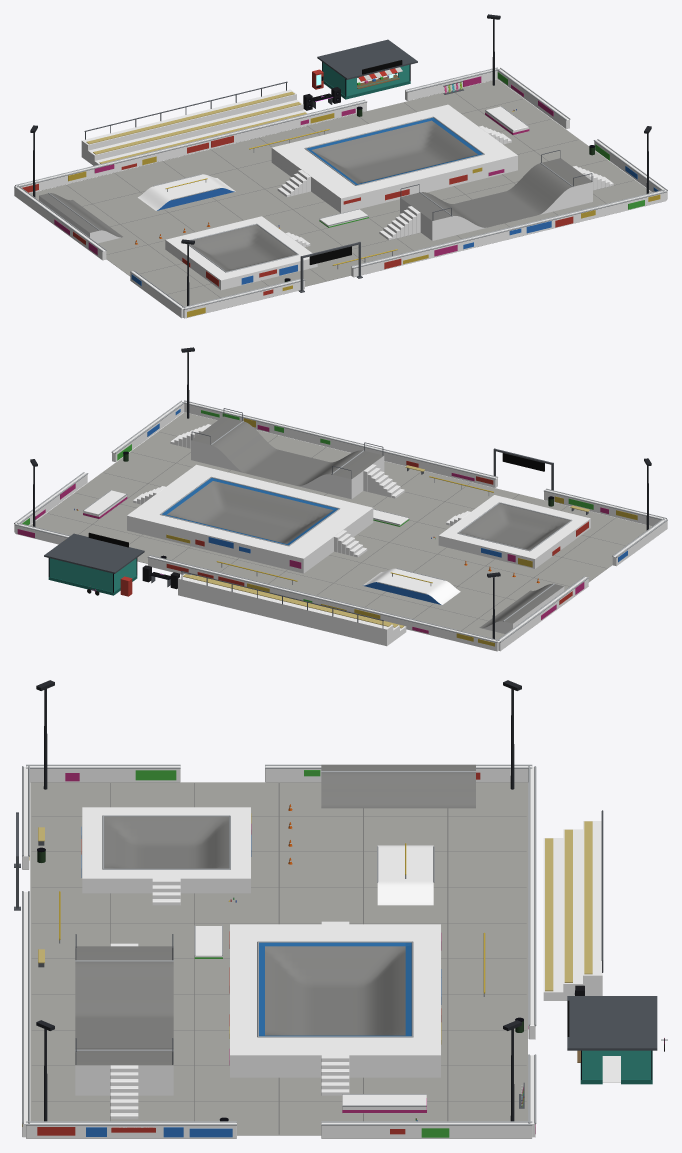
Rendered from tf-skate-p2.glb.
3 renders of one model, top to bottom at view 1: azimuth 30°, elevation 25°; view 2: azimuth 150°, elevation 25°; view 3: azimuth 270°, elevation 25°, orthographic. The views are drawn at different scales.
Visible parts, largest first — view 1: tf-skate-p2; view 2: tf-skate-p2; view 3: tf-skate-p2.
Boxes of the visible parts, left/top/right/bottom form: tf-skate-p2: left=14, top=14, right=667, bottom=318; tf-skate-p2: left=14, top=347, right=667, bottom=651; tf-skate-p2: left=14, top=680, right=667, bottom=1138.
Size of the model in its own units: 60.58 by 8.25 by 46.5.
